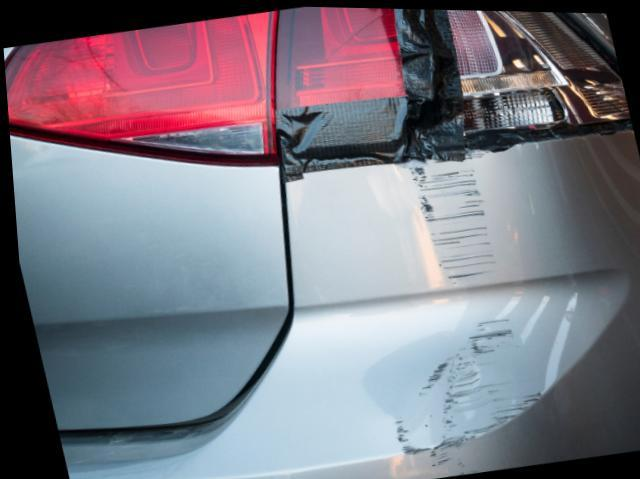lamp broken: (4, 5, 632, 163)
scratch: (383, 311, 543, 479), (406, 148, 497, 281)
